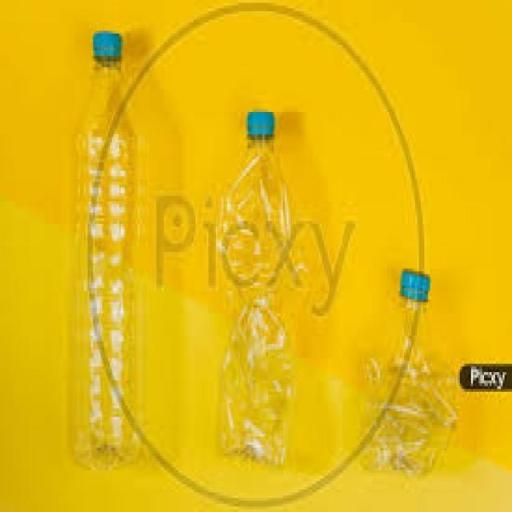plastic: (62, 23, 154, 481), (206, 106, 308, 478), (351, 255, 463, 477)
